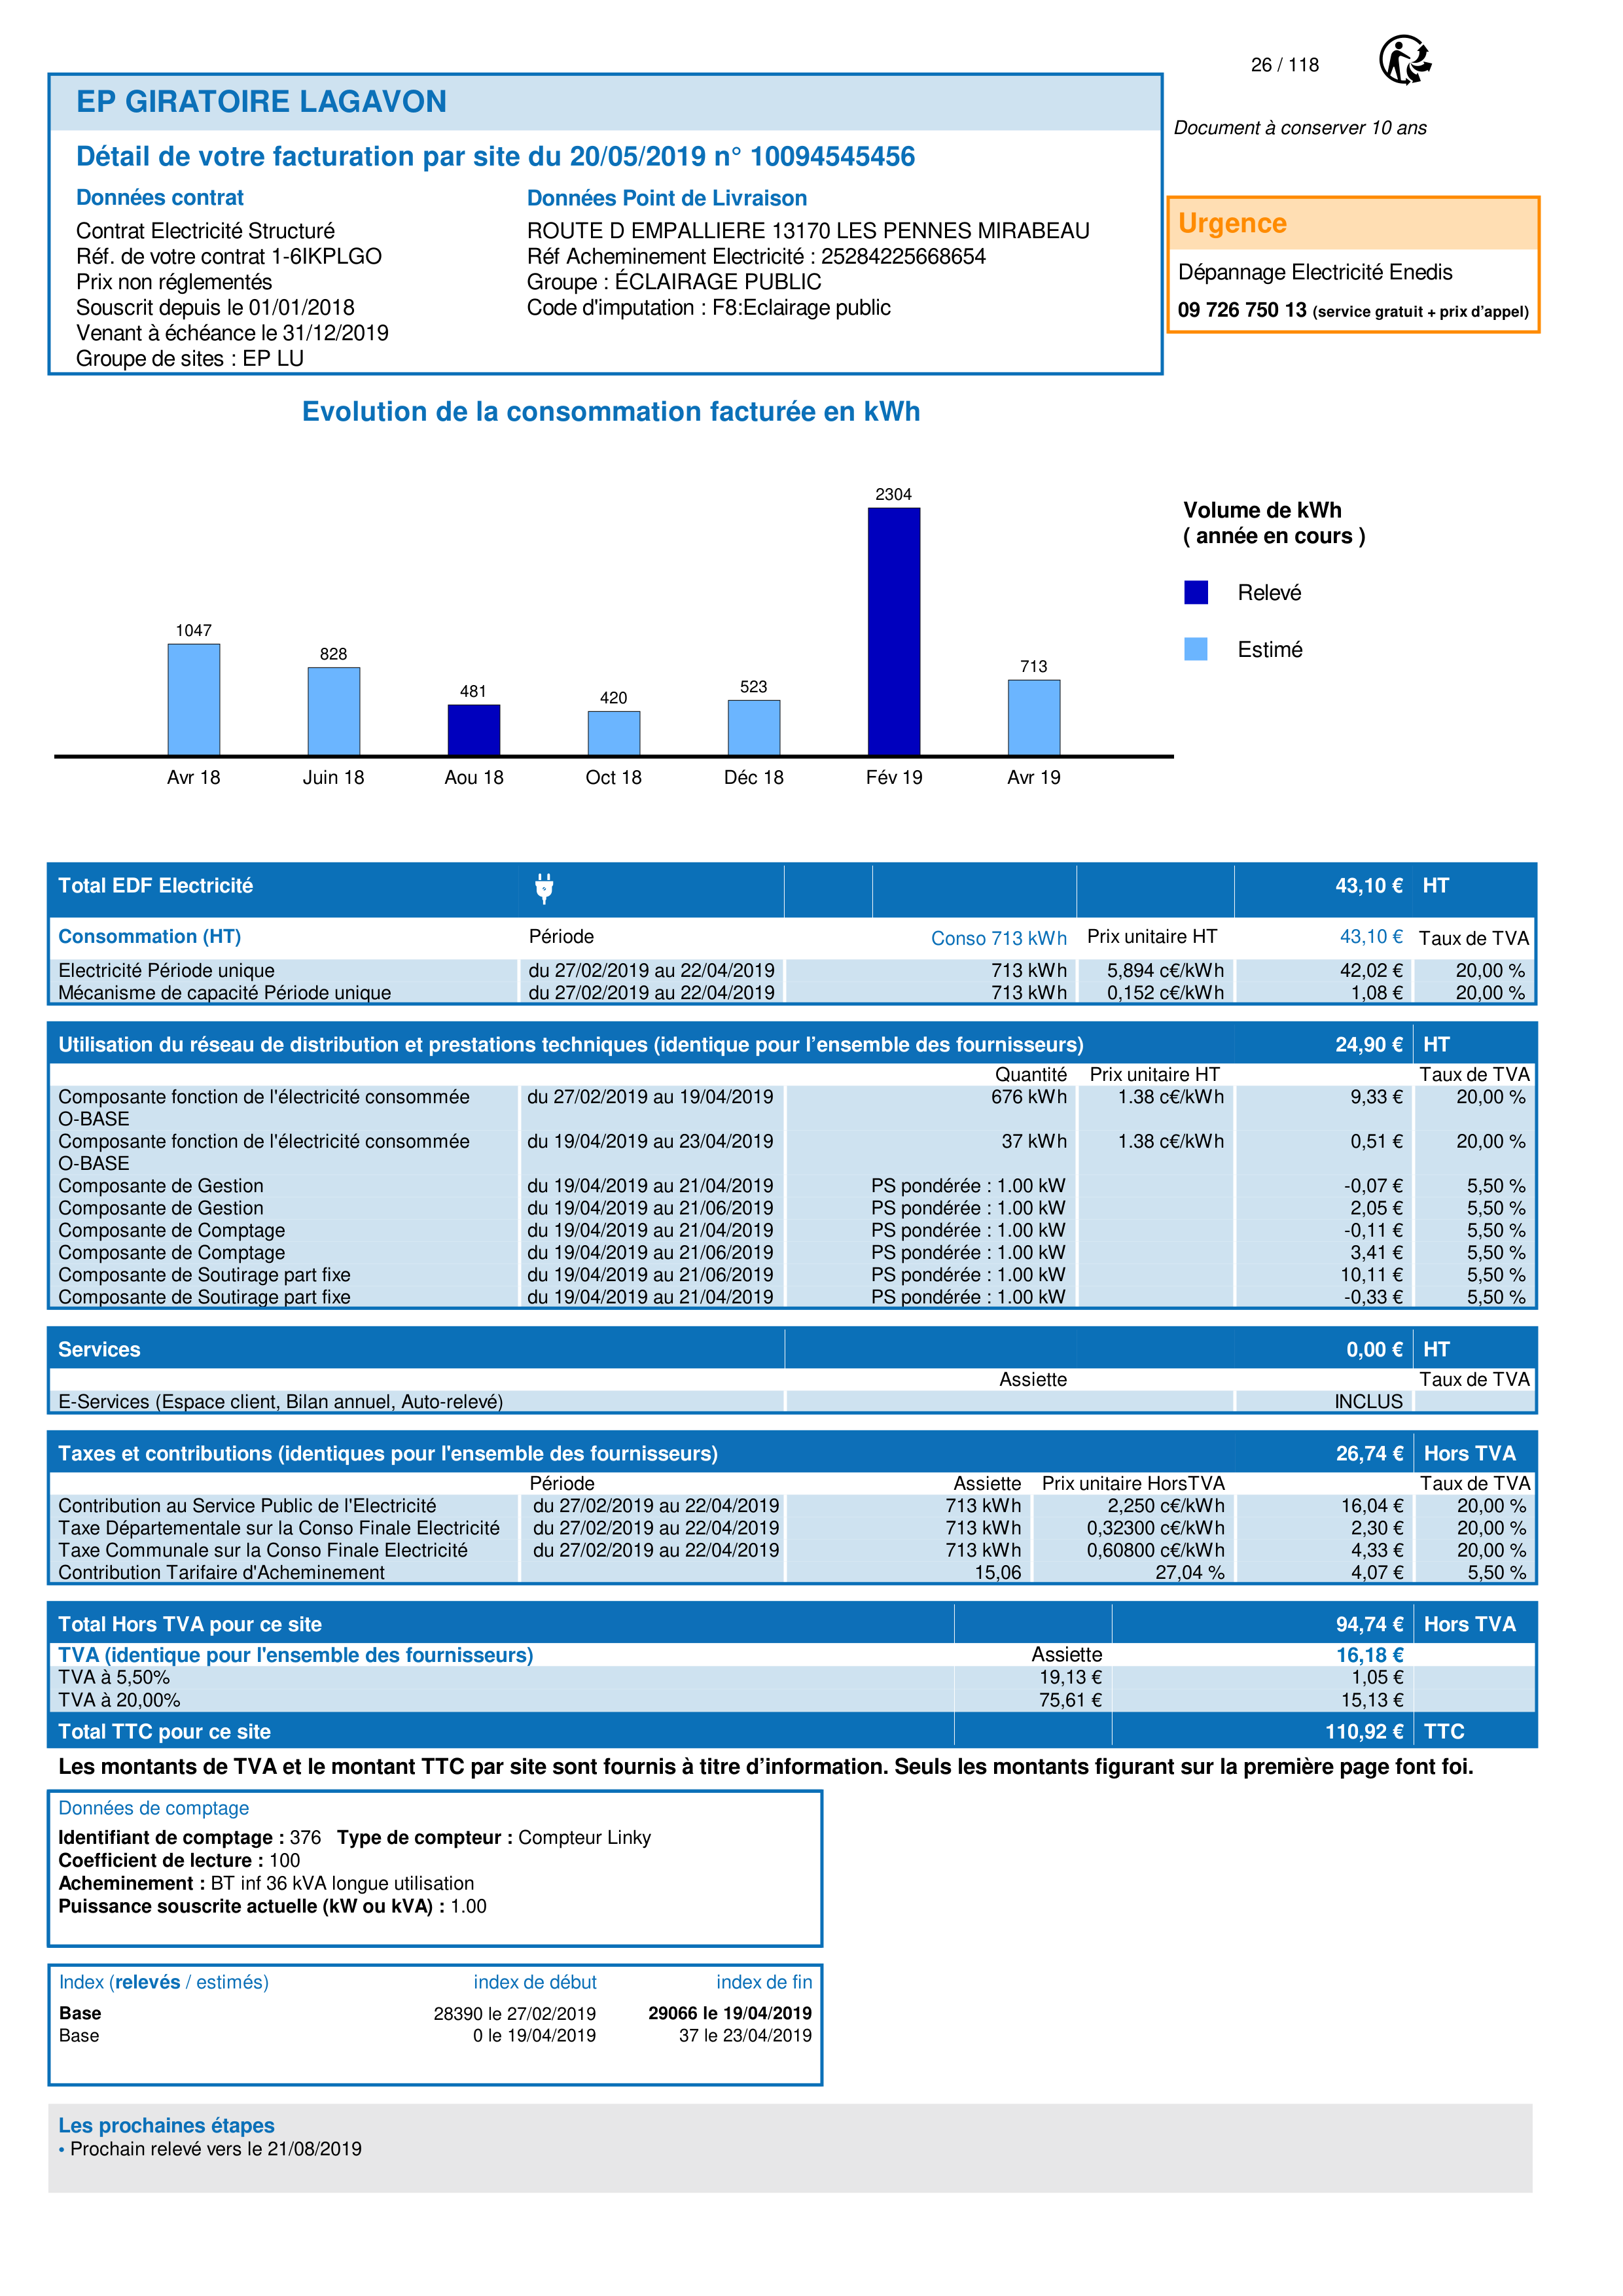area: (49, 1966, 822, 2087)
type_indicator: (49, 1964, 281, 2001)
